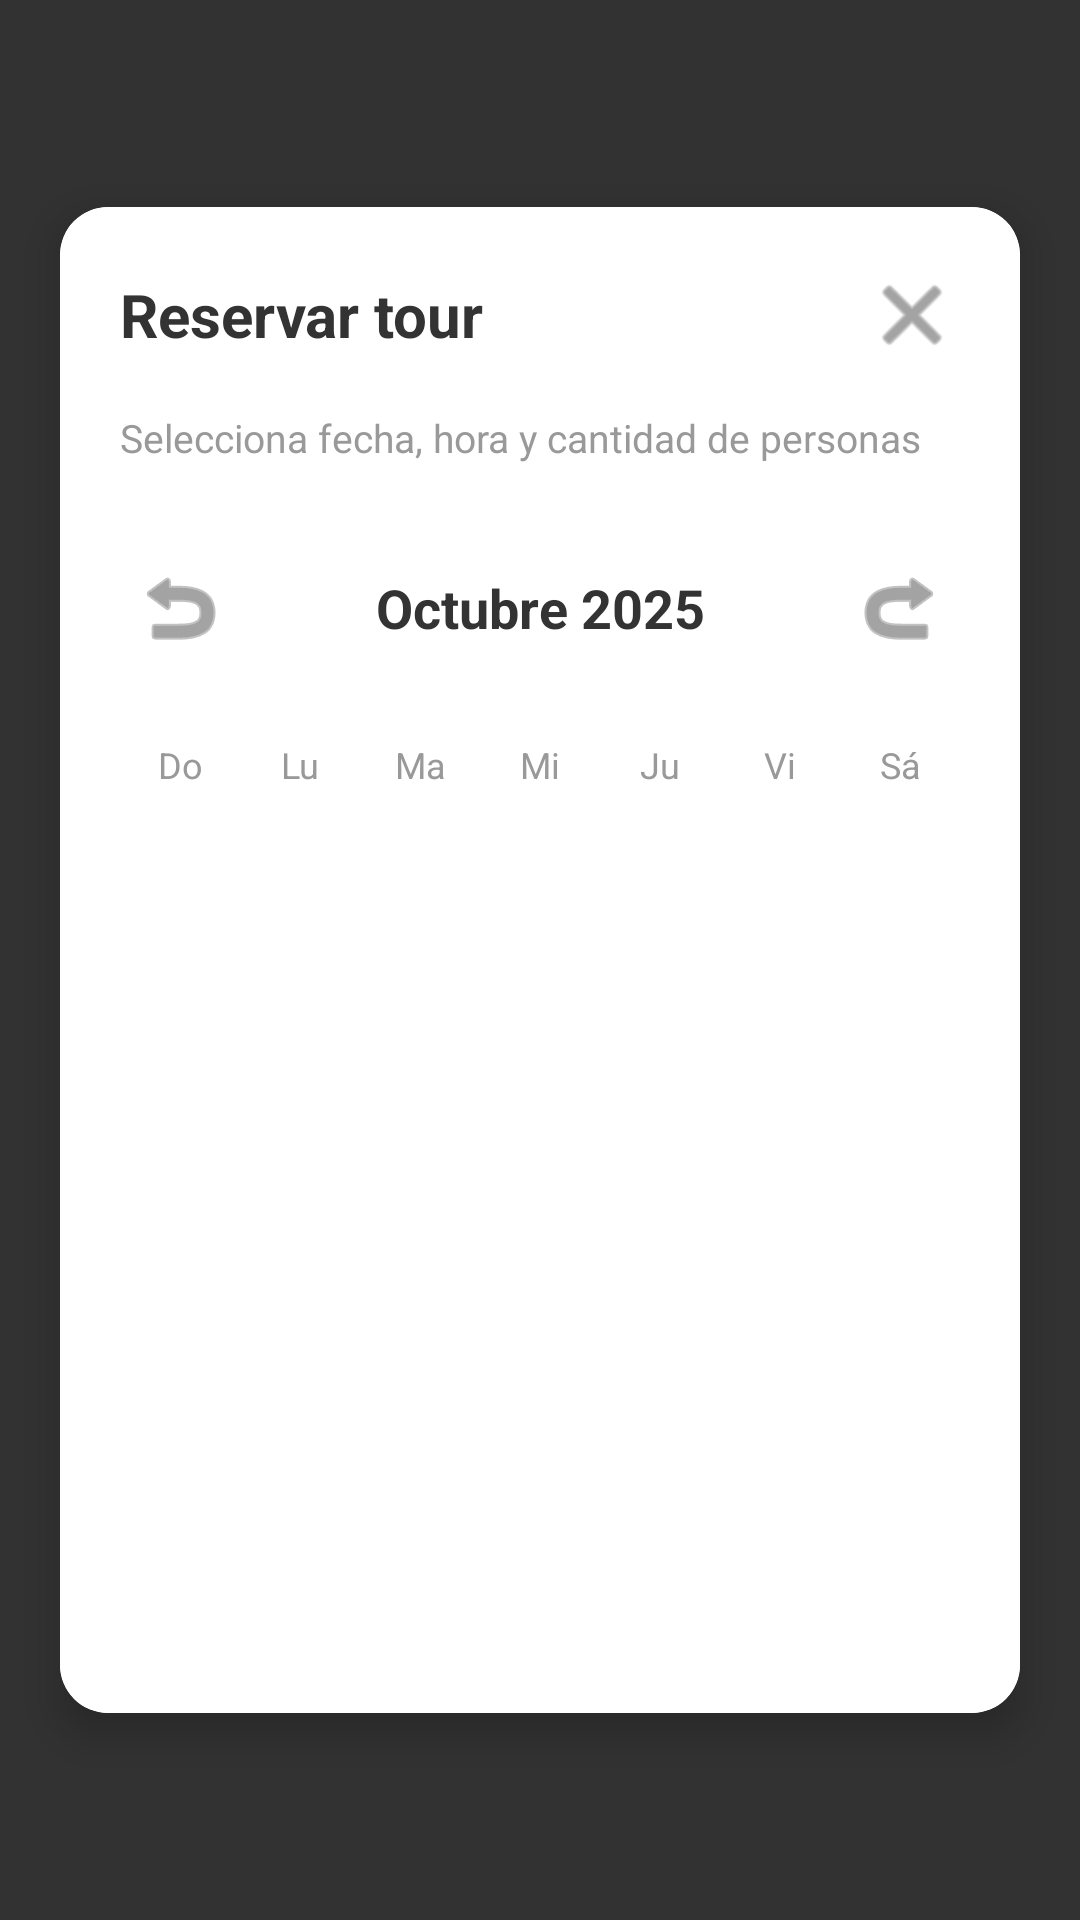

Point at icon controls on the screen. Image size 1080×1920, points as (x,y).
Cerrar: (912,315)
